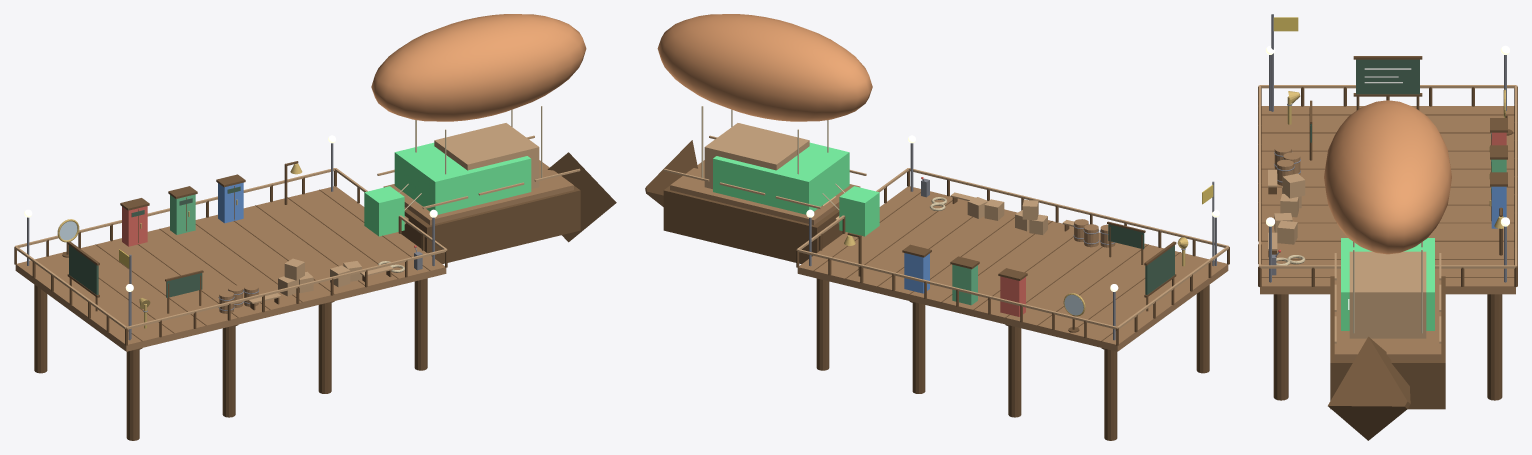
Rendered from waiting_room.glb.
3 renders of one model, left to right at view 1: azimuth 30°, elevation 25°; view 2: azimuth 150°, elevation 25°; view 3: azimuth 270°, elevation 25°, orthographic. The views are drawn at different scales.
Visible parts, largest first — view 1: col_dock_floor, ship_balloon, ship_hull, trigger_deck, ship_cabin, col_ship_deck, ship_bow, trigger_gangplank_check, dock_pillar_9_-5, dock_pillar_-3_-5, dock_pillar_3_-5, dock_pillar_-9_-5 (+8 smaller); view 2: col_dock_floor, ship_balloon, ship_hull, trigger_deck, ship_cabin, col_ship_deck, trigger_gangplank_check, dock_pillar_9_5, dock_pillar_-3_5, dock_pillar_3_5, dock_pillar_-9_5, ship_bow (+8 smaller); view 3: col_dock_floor, ship_balloon, ship_cabin, ship_bow, ship_hull, col_ship_deck, station_room_board, trigger_deck, dock_pillar_9_5, dock_pillar_9_-5, col_rail_left, col_rail_back (+15 smaller).
Part boxes in pixels (bbox=[...]): col_dock_floor: bbox=[15, 186, 446, 351]; ship_balloon: bbox=[371, 14, 586, 121]; ship_hull: bbox=[401, 186, 580, 263]; trigger_deck: bbox=[394, 142, 531, 214]; ship_cabin: bbox=[434, 123, 539, 188]; col_ship_deck: bbox=[383, 160, 573, 225]; ship_bow: bbox=[547, 152, 616, 242]; trigger_gangplank_check: bbox=[364, 186, 404, 236]; dock_pillar_9_-5: bbox=[414, 278, 427, 370]; dock_pillar_-3_-5: bbox=[222, 325, 235, 417]; dock_pillar_3_-5: bbox=[318, 302, 331, 393]; dock_pillar_-9_-5: bbox=[126, 348, 139, 440]; col_dock_floor: bbox=[797, 186, 1228, 351]; ship_balloon: bbox=[657, 14, 872, 121]; ship_hull: bbox=[663, 186, 842, 263]; trigger_deck: bbox=[713, 142, 849, 214]; ship_cabin: bbox=[704, 123, 809, 189]; col_ship_deck: bbox=[670, 160, 860, 224]; trigger_gangplank_check: bbox=[839, 186, 879, 236]; dock_pillar_9_5: bbox=[816, 278, 829, 370]; dock_pillar_-3_5: bbox=[1008, 325, 1021, 417]; dock_pillar_3_5: bbox=[912, 302, 925, 393]; dock_pillar_-9_5: bbox=[1104, 348, 1117, 440]; ship_bow: bbox=[645, 140, 697, 206]; col_dock_floor: bbox=[1260, 106, 1515, 294]; ship_balloon: bbox=[1324, 100, 1451, 254]; ship_cabin: bbox=[1349, 251, 1426, 338]; ship_bow: bbox=[1328, 336, 1410, 440]; ship_hull: bbox=[1330, 276, 1445, 409]; col_ship_deck: bbox=[1334, 273, 1441, 360]; station_room_board: bbox=[1356, 59, 1419, 94]; trigger_deck: bbox=[1341, 238, 1434, 330]; dock_pillar_9_5: bbox=[1487, 294, 1502, 400]; dock_pillar_9_-5: bbox=[1273, 294, 1288, 400]; col_rail_left: bbox=[1260, 85, 1515, 88]; col_rail_back: bbox=[1515, 85, 1517, 266].
Bounding box in the file's own units: 32.64 × 17 × 12.16.
